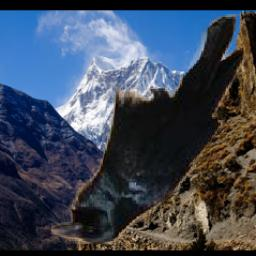Crow: (52, 15, 246, 245)
